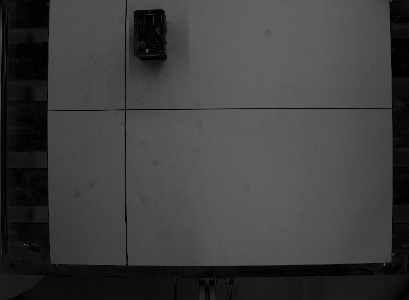kltxs: (130, 6, 171, 63)
